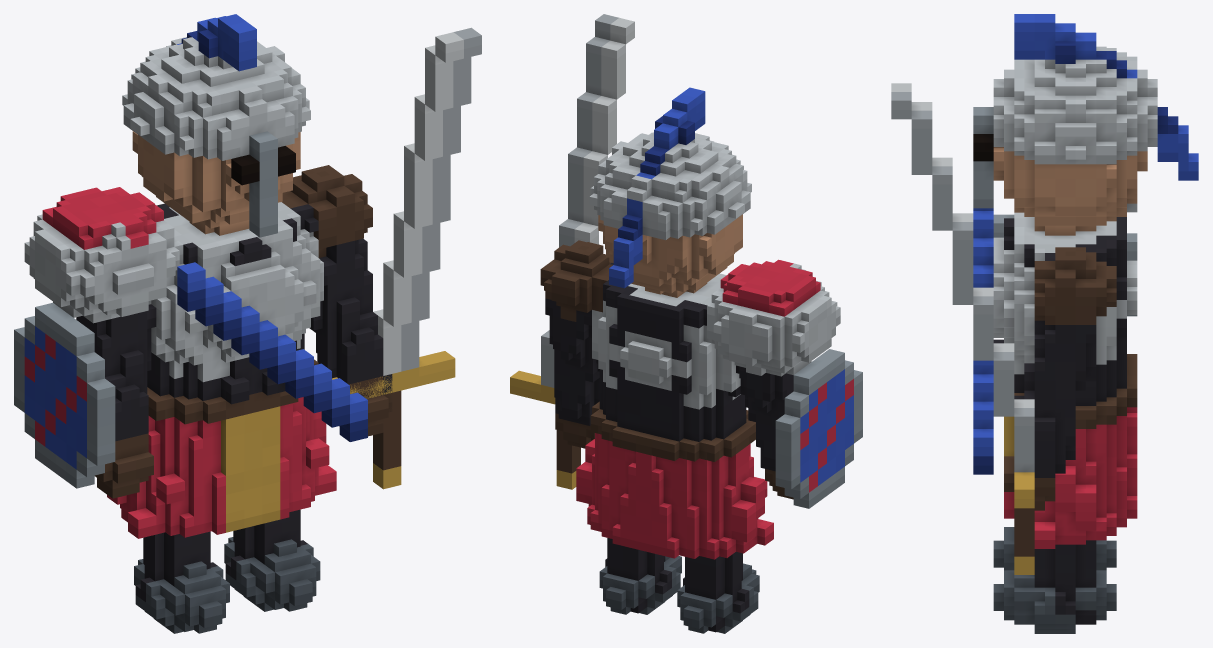
The model's file is u_lame__garde.glb.
3 views of the same model, side by side, from view 1: azimuth 30°, elevation 25°; view 2: azimuth 150°, elevation 25°; view 3: azimuth 270°, elevation 25° (orthographic). The views are drawn at different scales.
Parts seen in each view (by area): view 1: lame_body, lame_weapon; view 2: lame_body, lame_weapon; view 3: lame_body, lame_weapon.
Part boxes in pixels (x1=…): lame_body: x1=14, y1=14, x2=392, y2=633; lame_weapon: x1=332, y1=27, x2=481, y2=489; lame_body: x1=540, y1=87, x2=862, y2=633; lame_weapon: x1=510, y1=14, x2=634, y2=489; lame_body: x1=973, y1=14, x2=1198, y2=633; lame_weapon: x1=891, y1=83, x2=1034, y2=574.
Bounding box in the file's own units: 1.05 × 1.58 × 0.75.
